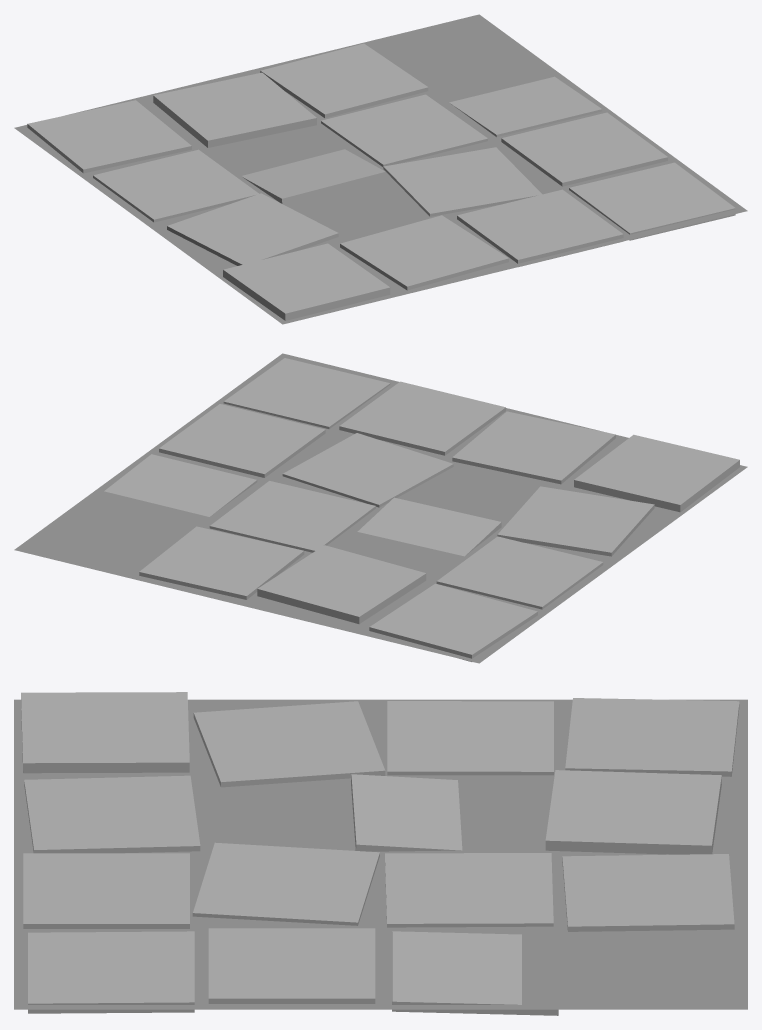
Rendered from dalle2.FBX.
The picture shows the model from 3 angles, top to bottom: view 1: azimuth 30°, elevation 25°; view 2: azimuth 150°, elevation 25°; view 3: azimuth 270°, elevation 25°; orthographic projection. The views are drawn at different scales.
Visible parts, largest first — view 1: sol2; view 2: sol2; view 3: sol2.
Part boxes in pixels (x1=…): sol2: x1=14, y1=14, x2=747, y2=324; sol2: x1=14, y1=353, x2=747, y2=663; sol2: x1=14, y1=692, x2=747, y2=1015.
Bounding box in the file's own units: 100 × 3.9 × 100.
1 material, 1 textured.
